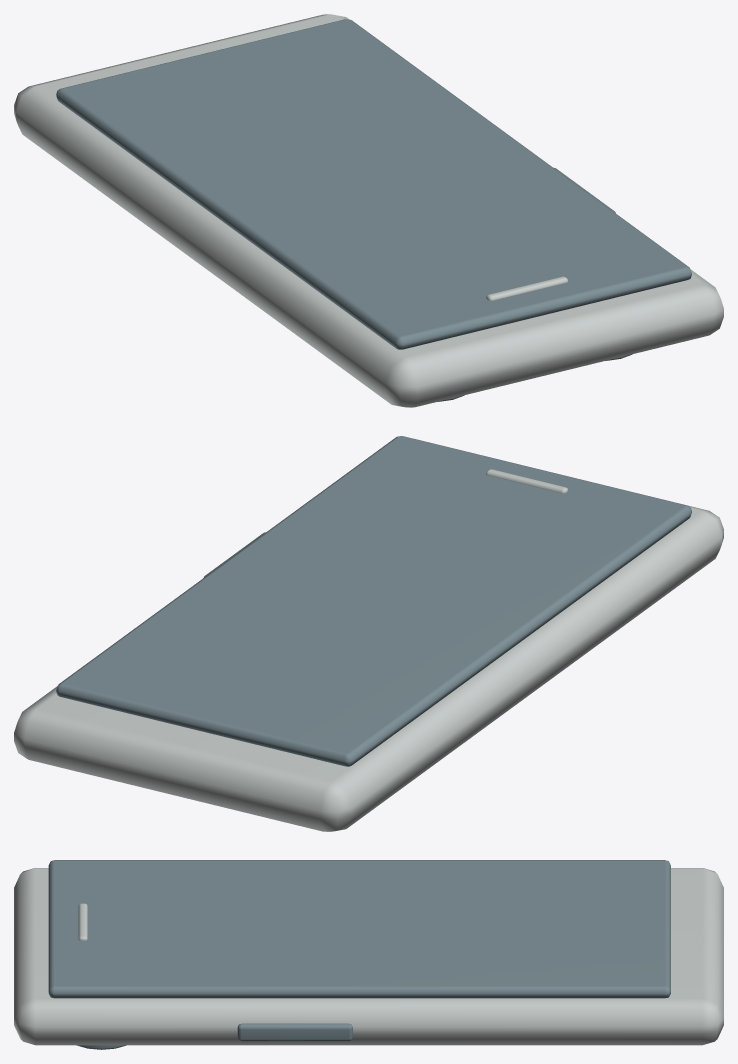
File: phone.glb
3 renders of one model, top to bottom at view 1: azimuth 30°, elevation 25°; view 2: azimuth 150°, elevation 25°; view 3: azimuth 270°, elevation 25°, orthographic. The views are drawn at different scales.
Parts seen in each view (by area): view 1: screen, body; view 2: screen, body; view 3: screen, body, side_button, speaker.
Part boxes in pixels (x1,y1,x2,y2): screen: [56, 19, 691, 349]; body: [14, 14, 723, 407]; screen: [56, 436, 691, 766]; body: [14, 438, 723, 831]; screen: [48, 860, 670, 998]; body: [14, 868, 723, 1045]; side_button: [237, 1023, 352, 1041]; speaker: [78, 903, 87, 940].
Size of the model in its own units: 0.078 by 0.0188 by 0.154.
